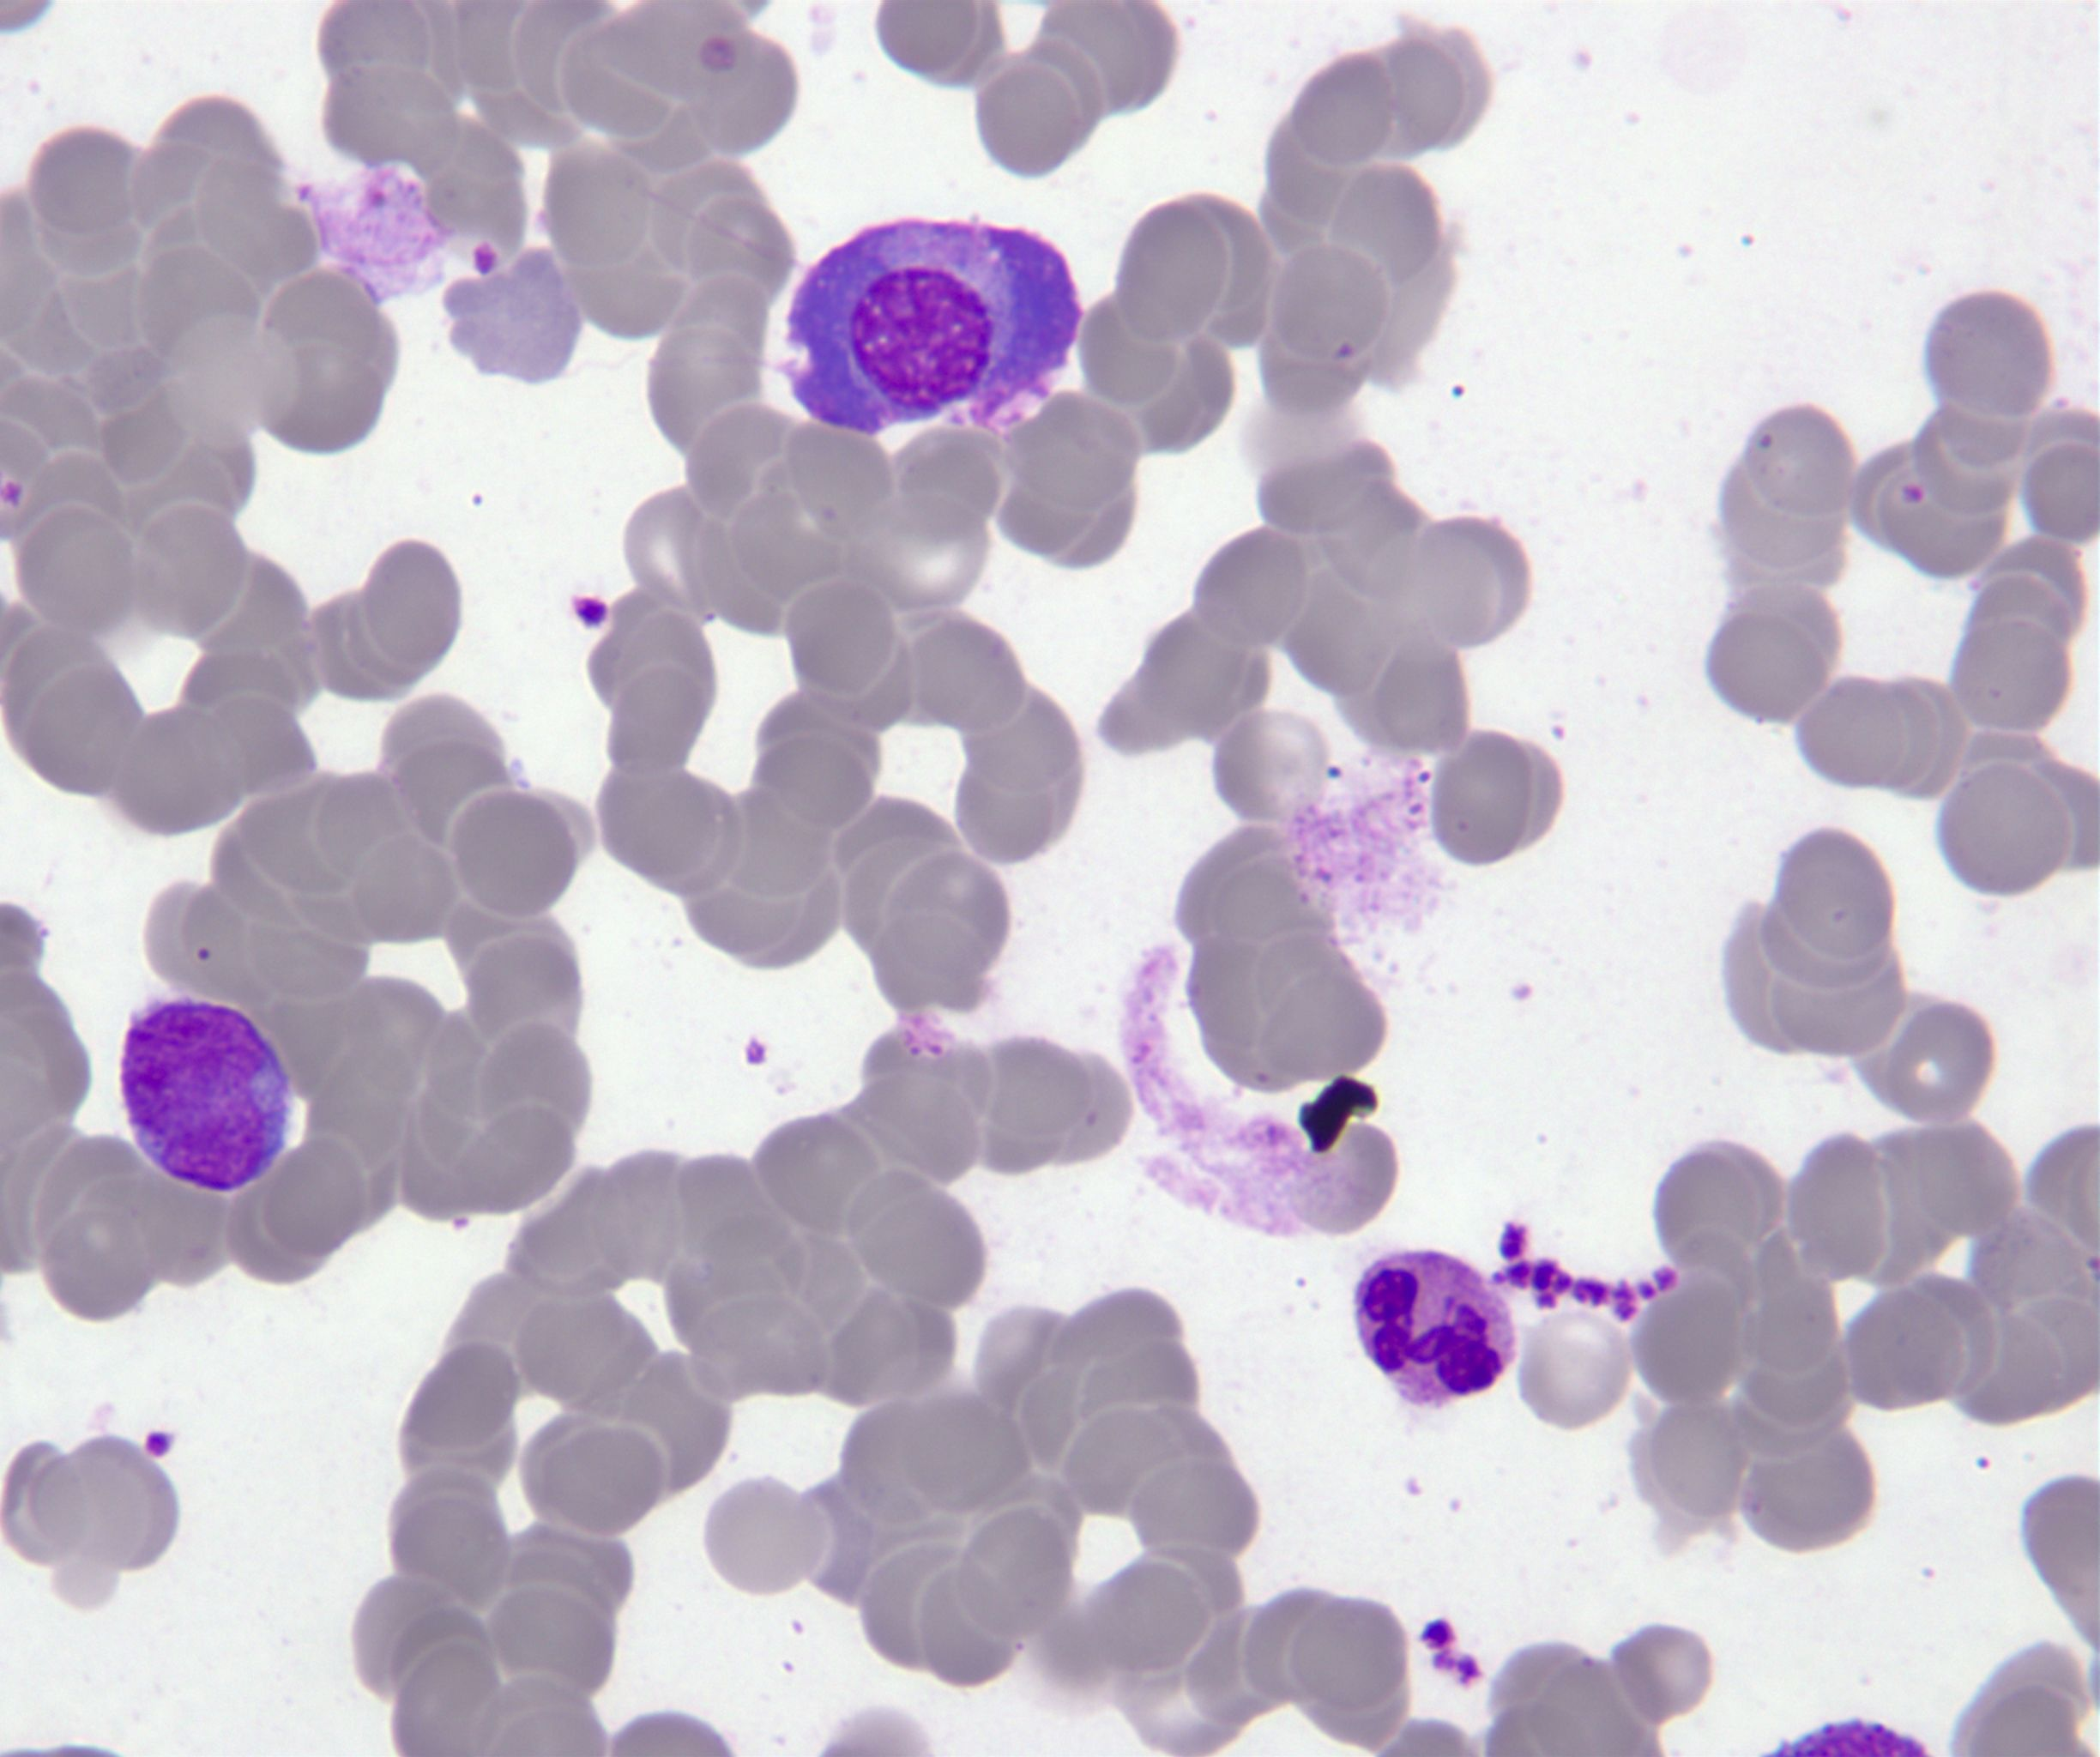3: (113, 995, 297, 1199)
6: (1348, 1242, 1524, 1415)
x: (783, 211, 1092, 443)
